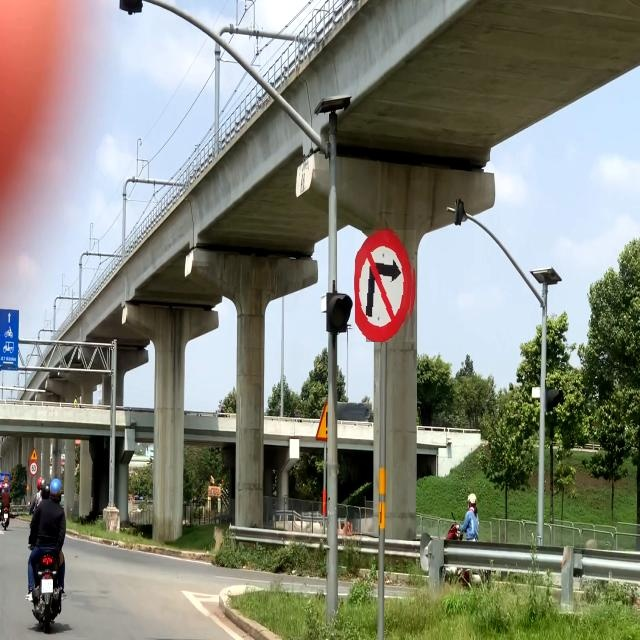bien_nguy_hiem: (355, 230, 416, 342)
